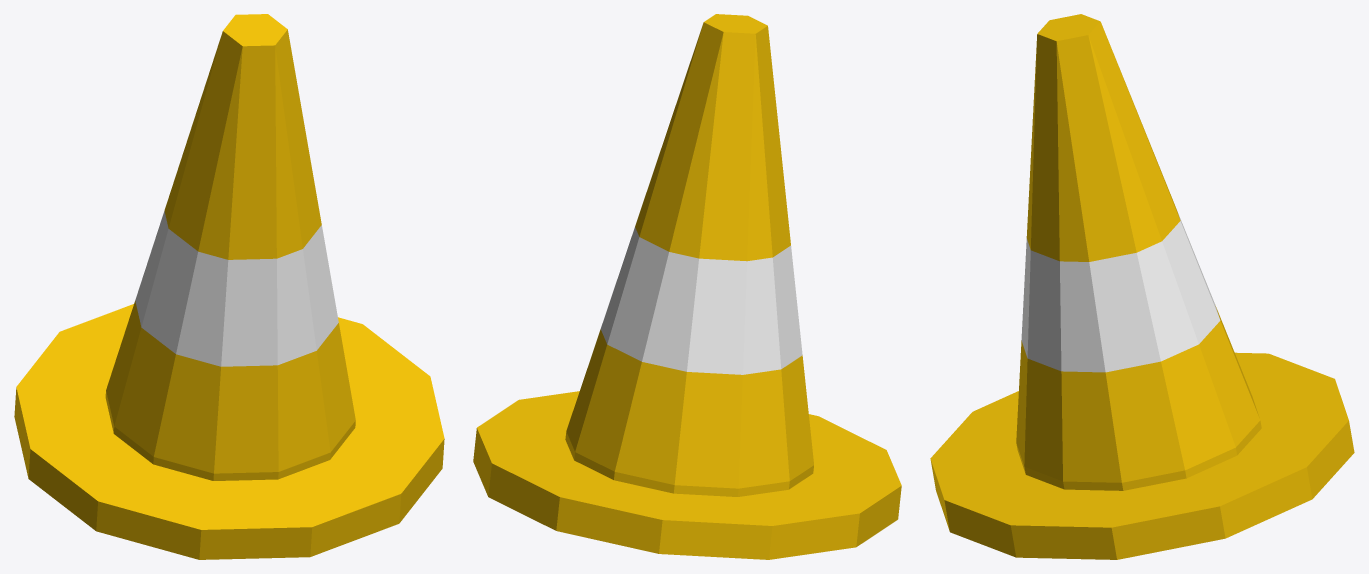
Rendered from TrafficCone.fbx.
3 renders of one model, left to right at view 1: azimuth 30°, elevation 25°; view 2: azimuth 150°, elevation 25°; view 3: azimuth 270°, elevation 25°, orthographic.
Visible parts, largest first — view 1: mesh_242381766; view 2: mesh_242381766; view 3: mesh_242381766.
Part boxes in pixels (<box>): mesh_242381766: <box>14,14,444,559</box>; mesh_242381766: <box>473,14,901,559</box>; mesh_242381766: <box>930,14,1354,559</box>.
Bounding box in the file's own units: 23.77 × 29.23 × 23.73.
